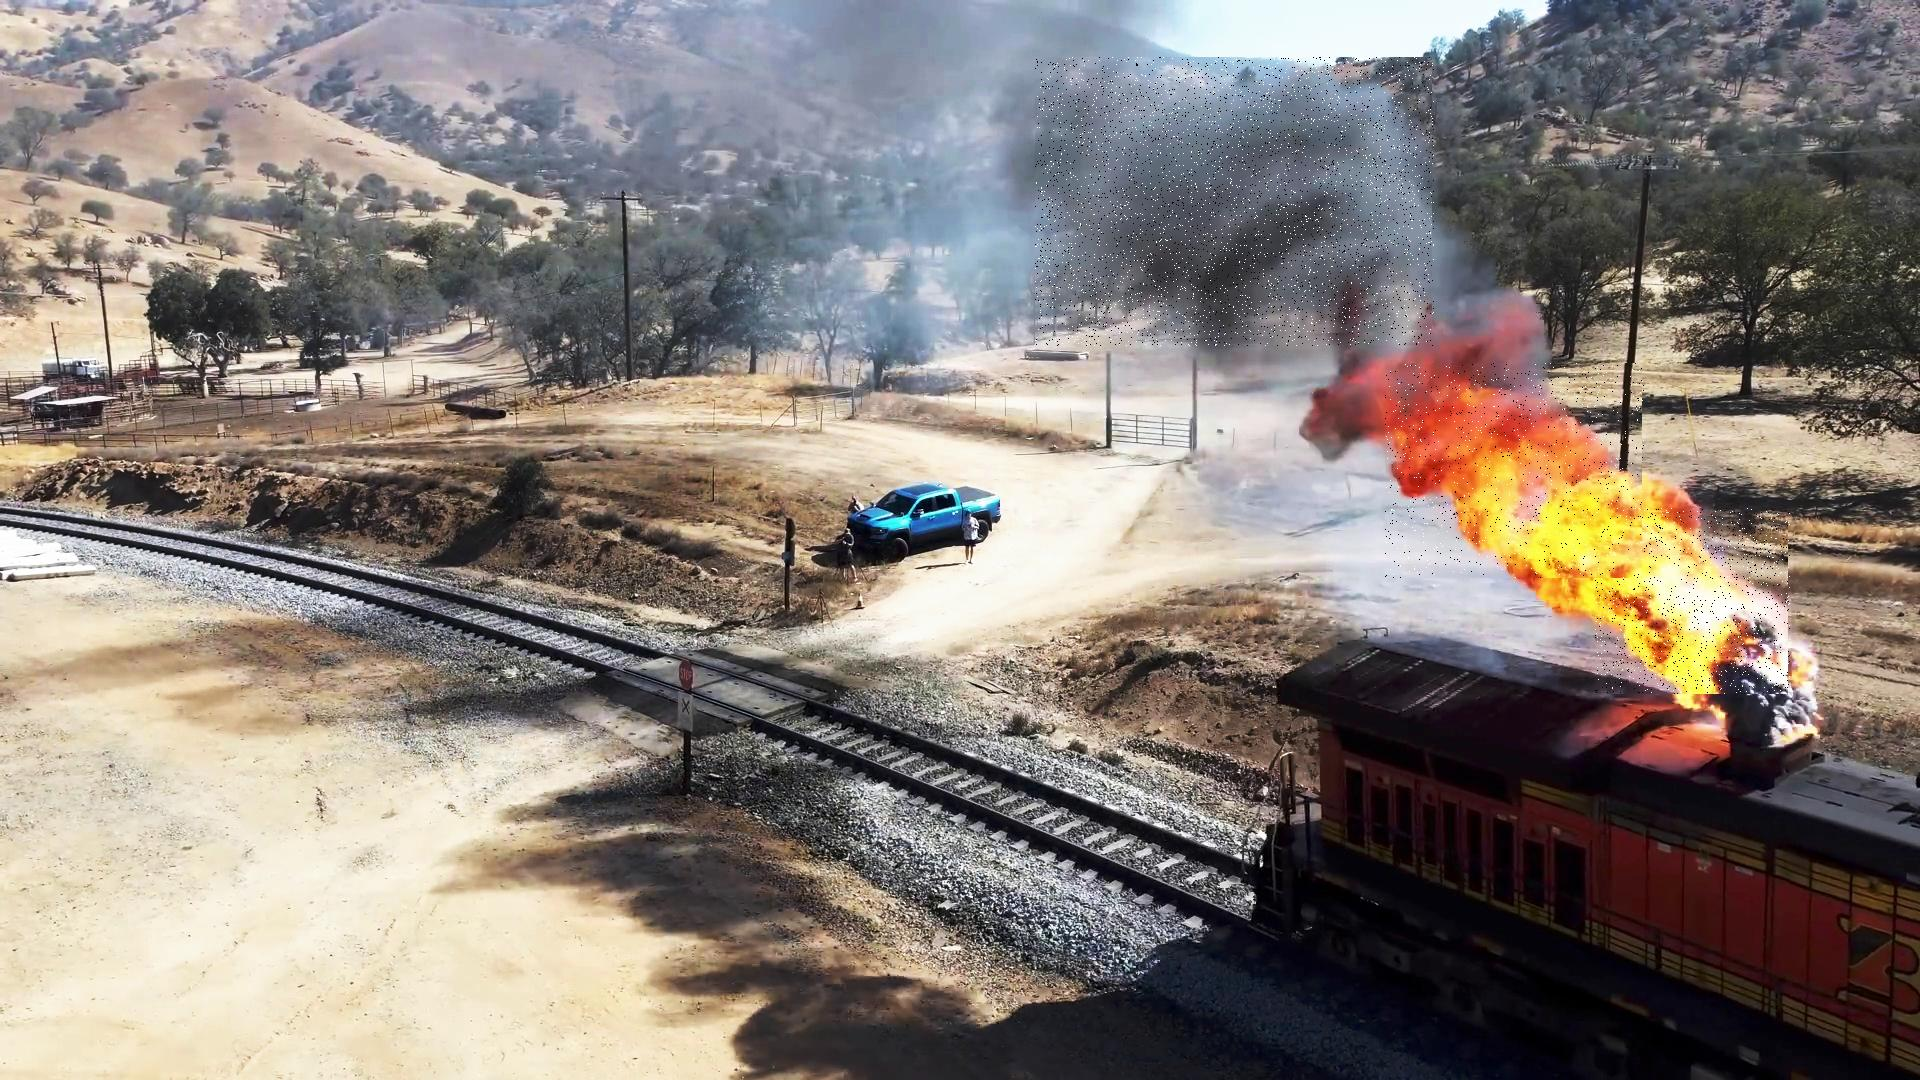fire: (1386, 363, 1644, 579), (1596, 508, 1791, 694)
smoke: (1035, 58, 1435, 347)
